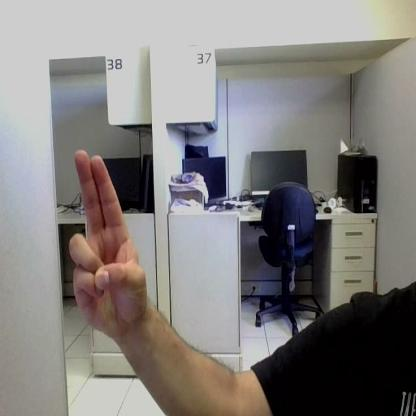U: (70, 152, 146, 333)
